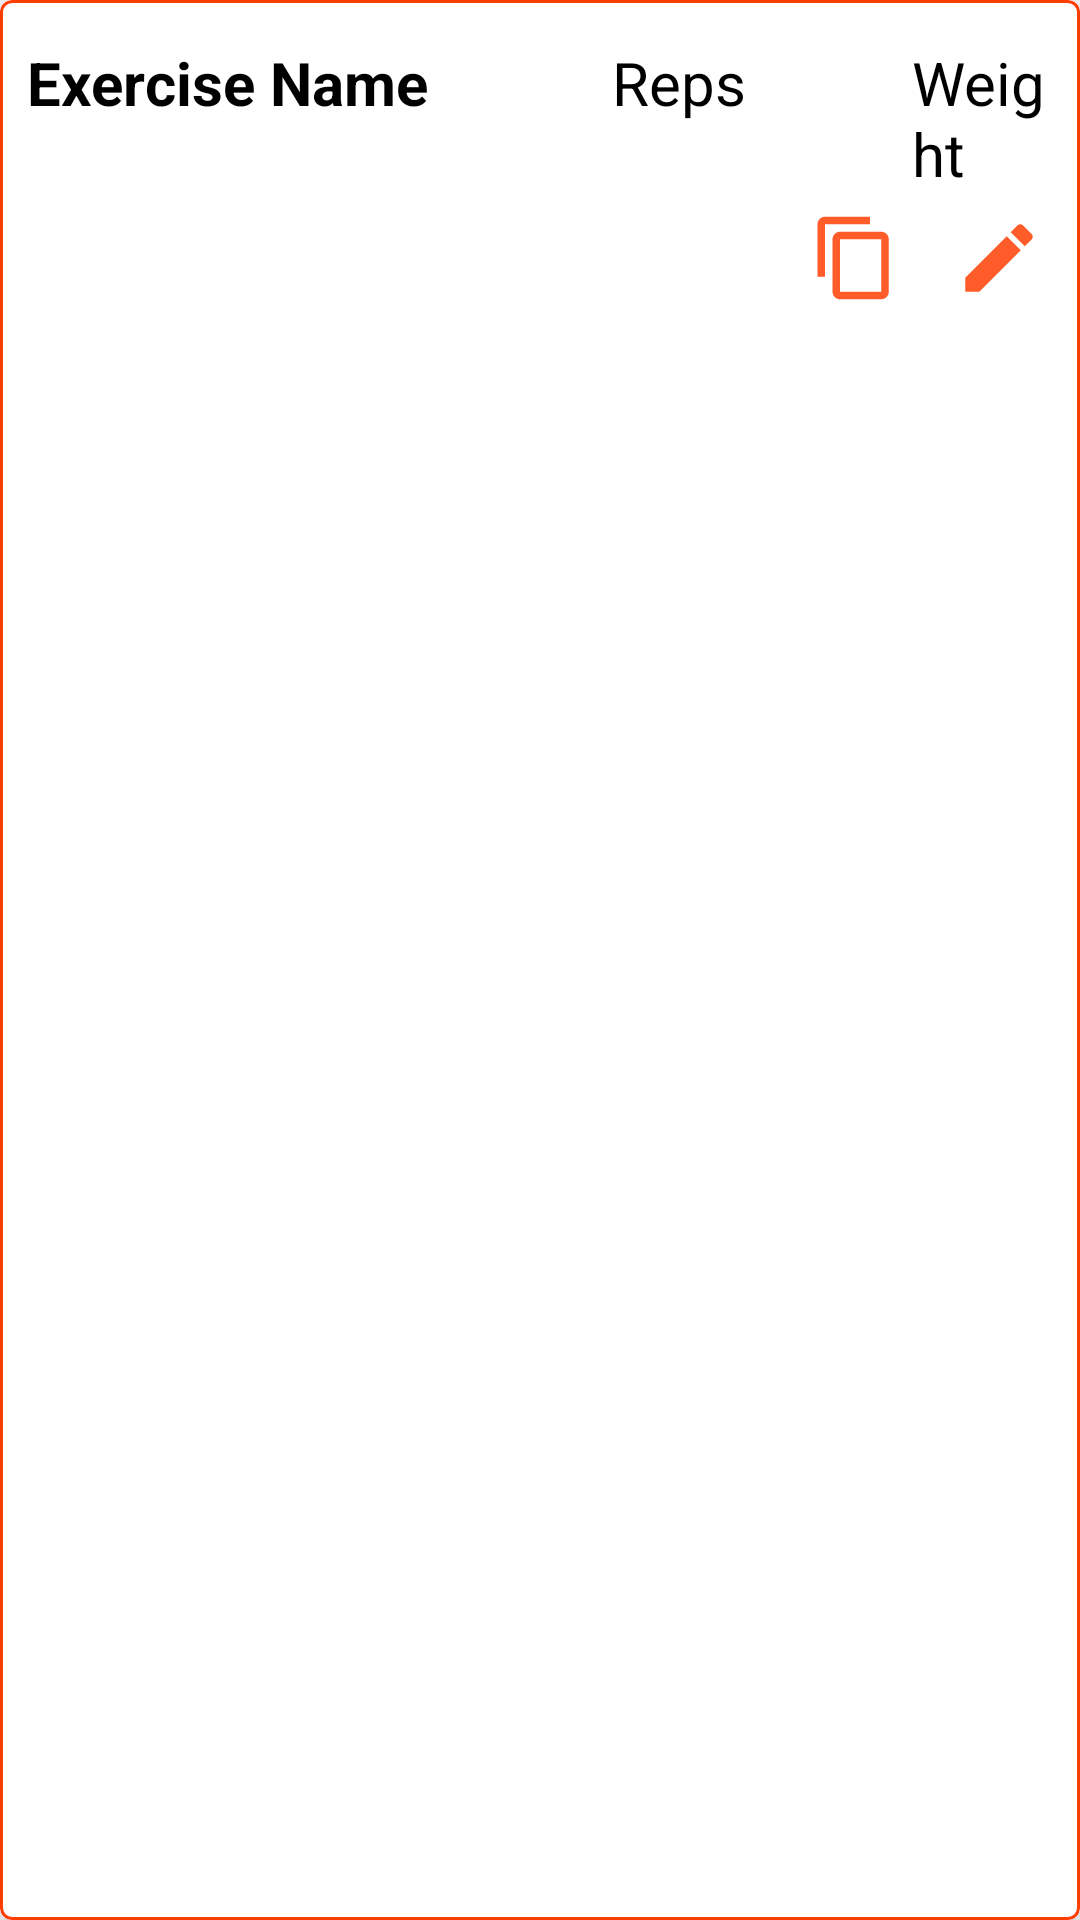

Where icons sit on this 1080px×1920px app screen, as (x1, y1, x2, y2):
workoutcardedit: (965, 224, 1033, 292)
